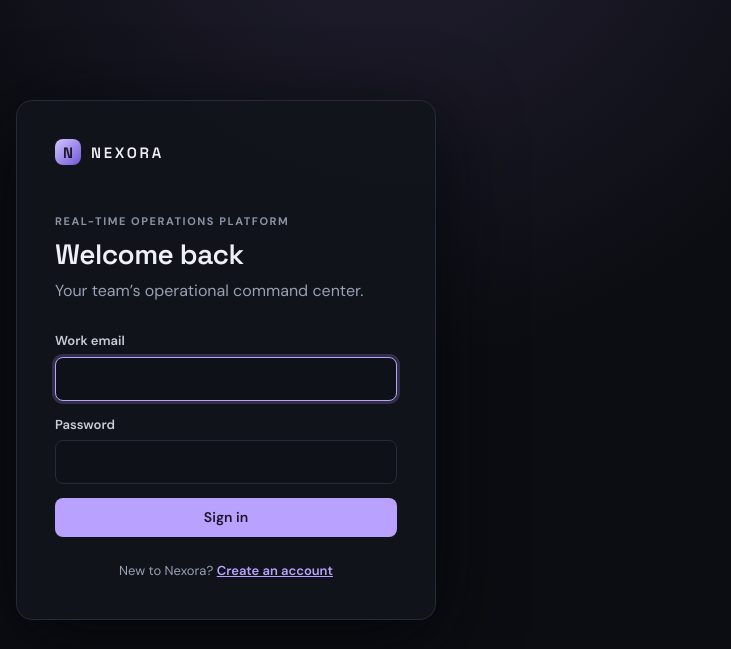
Scenario: LoginPage › shows invalid-email validation
Type "not-an-email" into the field labelled "Work email" at (226, 379), box [55,357,397,401]
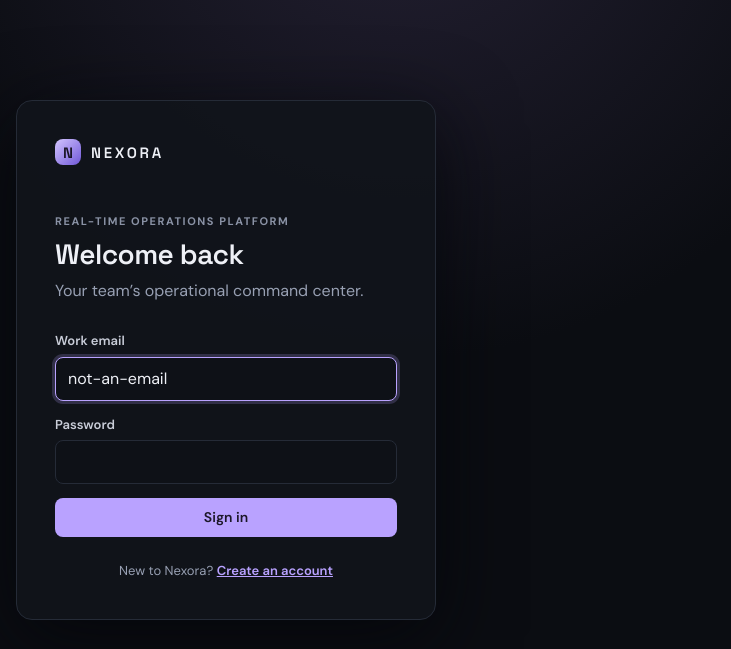
Type "x" into the password field labelled "Password" at (226, 462), box [55,440,397,484]
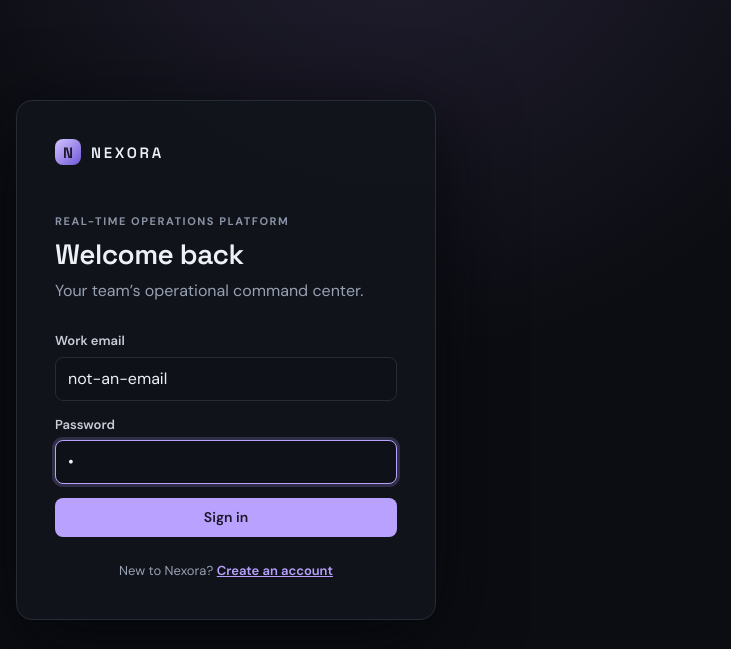
Click the button "Sign in" at (226, 518), box [55,498,397,537]
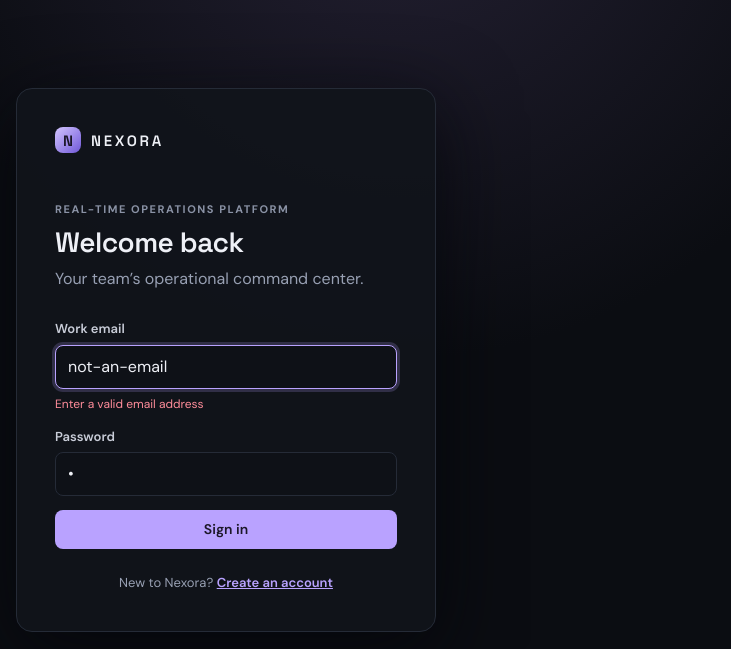
Expected: the text "Enter a valid email address" is shown, [55,396,204,412]
